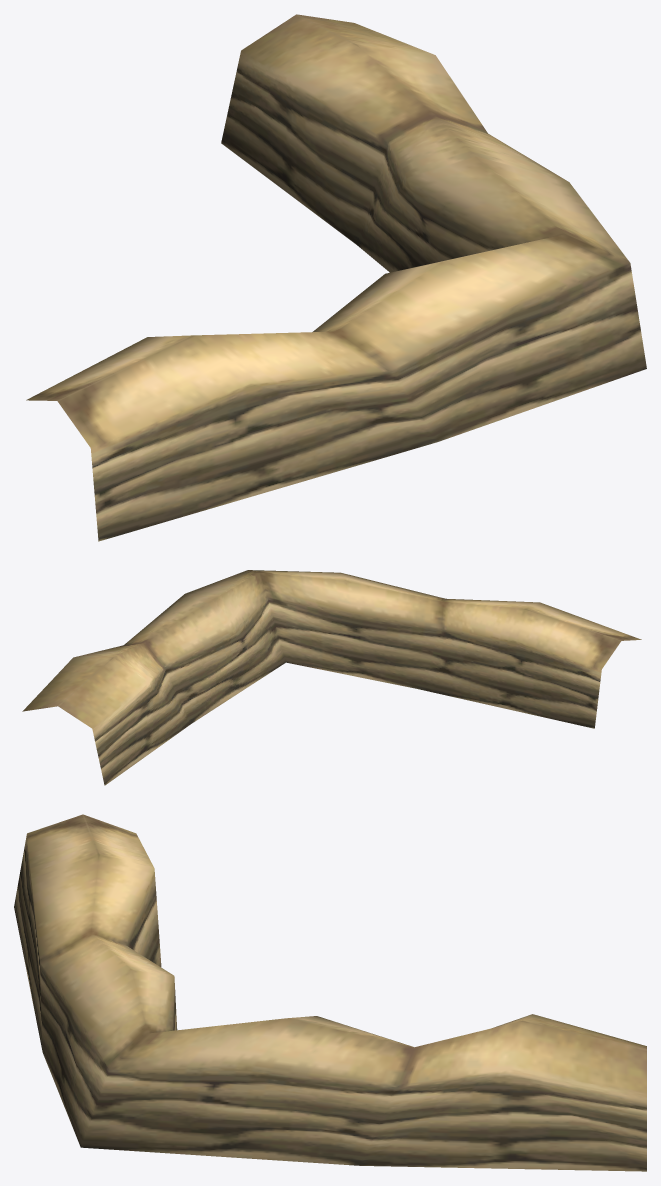
The model's file is SandBags2_Low_Corner.glb.
The picture shows the model from 3 angles, top to bottom: view 1: azimuth 30°, elevation 25°; view 2: azimuth 150°, elevation 25°; view 3: azimuth 270°, elevation 25°; orthographic projection. The views are drawn at different scales.
Visible parts, largest first — view 1: SANDBAGS2_LOW_CORNER; view 2: SANDBAGS2_LOW_CORNER; view 3: SANDBAGS2_LOW_CORNER.
Boxes of the visible parts, x1,y1,x2,y2 form: SANDBAGS2_LOW_CORNER: (26, 14, 646, 541); SANDBAGS2_LOW_CORNER: (22, 570, 641, 785); SANDBAGS2_LOW_CORNER: (14, 814, 646, 1171).
Bounding box in the file's own units: 2.27 × 0.462 × 2.29.
1 material, 1 textured.
